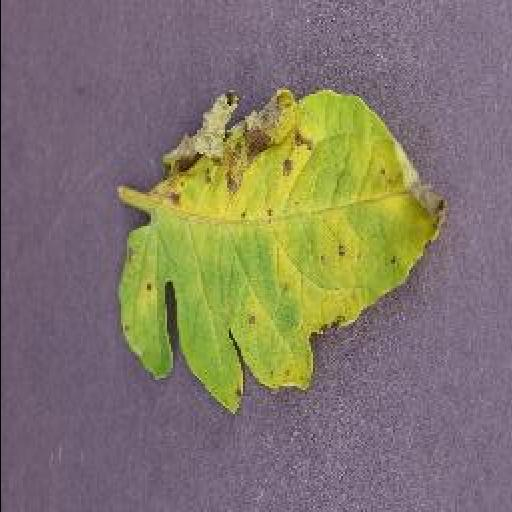disease_tomato: (115, 91, 445, 416)
